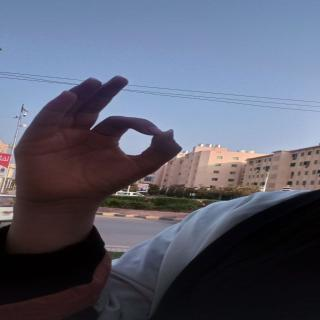Space: (13, 74, 183, 195)
